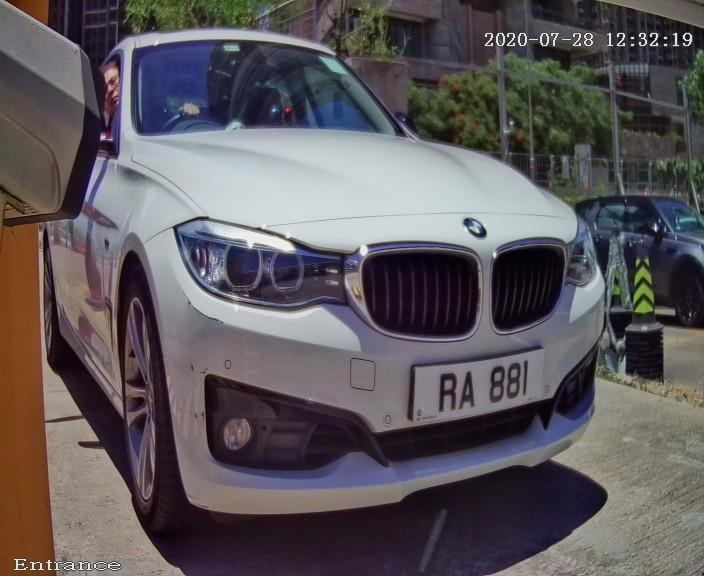privatecar: (48, 11, 661, 566)
